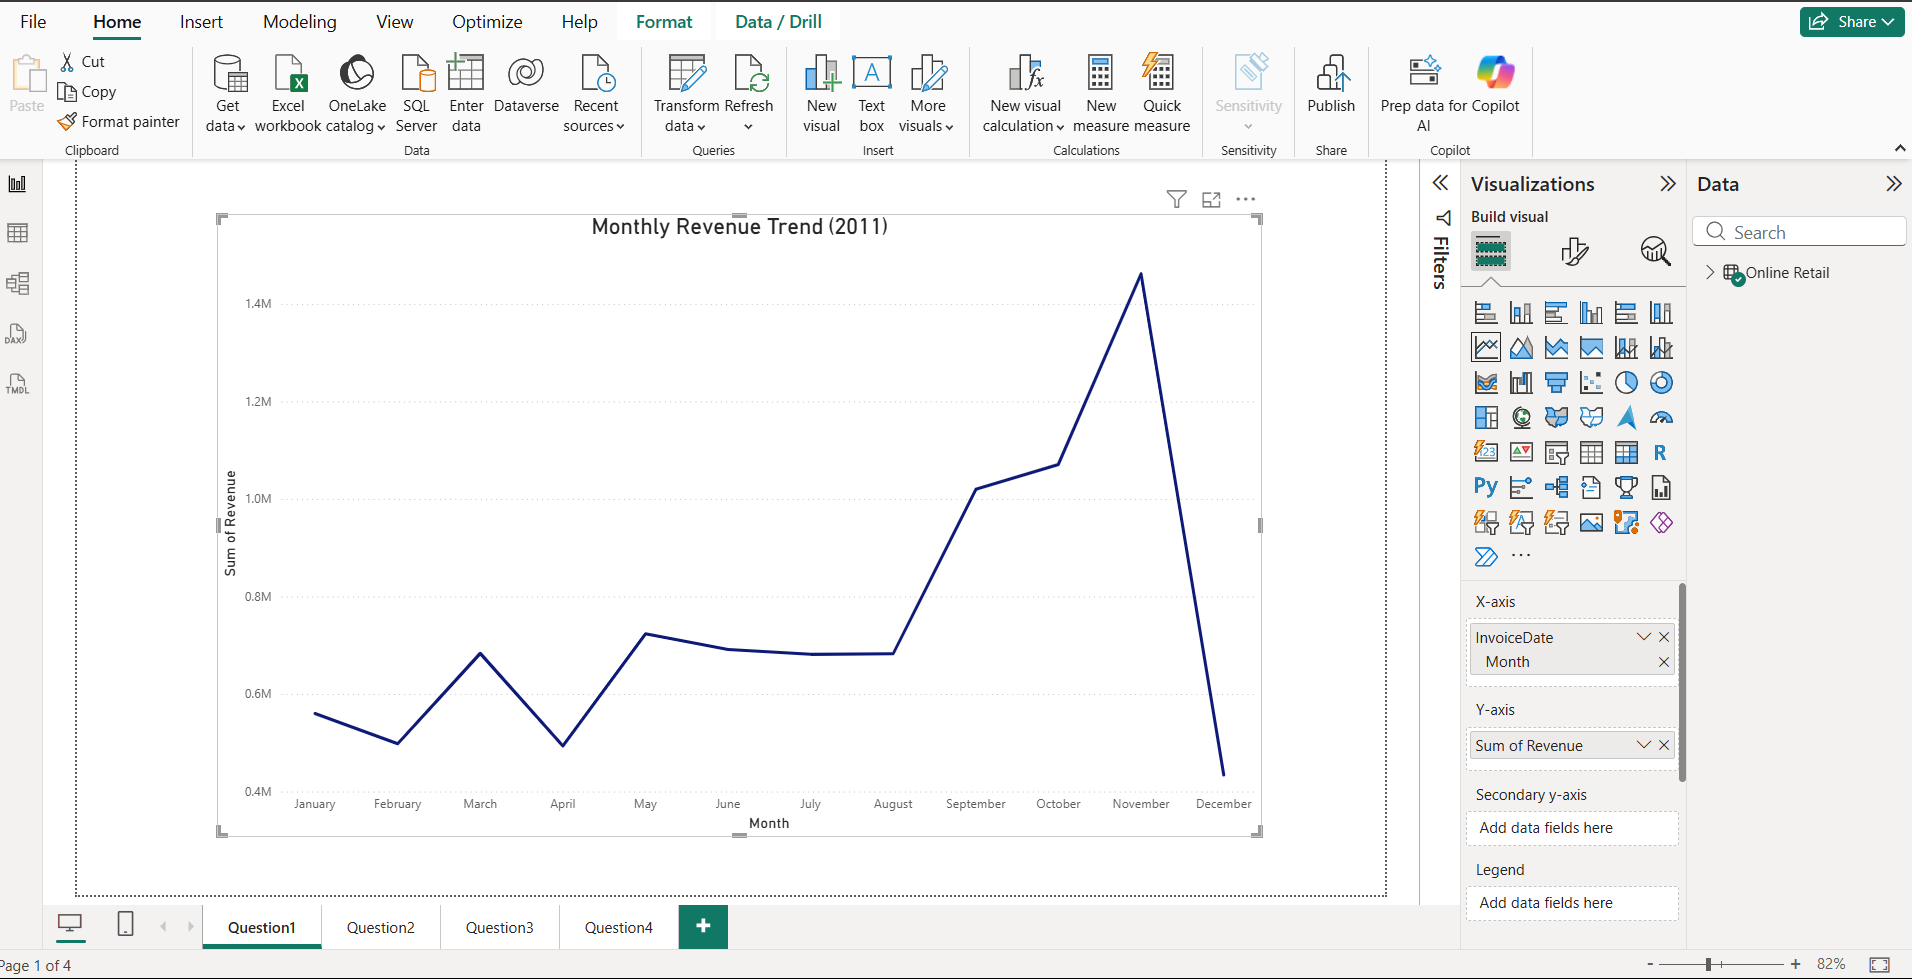

Layout of this report page (visuals, bound fields, positions):
{"tool":"powerbi","page":{"name":"Question1","canvas":[1280,720],"ordinal":0},"visuals":[{"type":"lineChart","title":"Monthly Revenue Trend (2011)","fields":{"Y":["Sum(Online Retail.Revenue)"],"Category":["Online Retail.InvoiceDate.Variation.Date Hierarchy.Month"]},"box":[137,53.8,1022.3,609],"z":1}]}

Visuals, with their boxes on the page's 1280x720 design canvas (x1, y1, x2, y2). These are canvas units, not pixel positions in the 1912x979 screenshot, which may show the page scaled, cropped or inside an application window:
"Monthly Revenue Trend (2011)" lineChart: [137, 54, 1159, 663]
